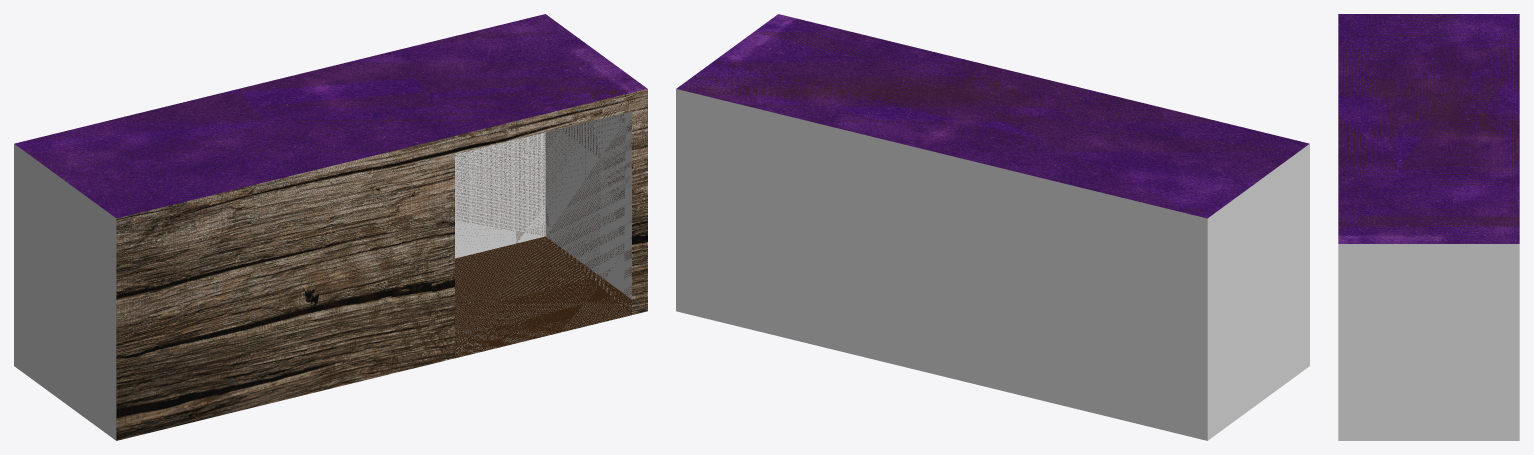
The model's file is Tunnel-house.dae.
The picture shows the model from 3 angles, left to right: view 1: azimuth 30°, elevation 25°; view 2: azimuth 150°, elevation 25°; view 3: azimuth 270°, elevation 25°; orthographic projection. The views are drawn at different scales.
Visible parts, largest first — view 1: SketchUp (×3); view 2: SketchUp (×2); view 3: SketchUp (×2).
Boxes of the visible parts, <box> form: SketchUp (×3): <box>14,14,647,440</box>; SketchUp (×2): <box>676,14,1309,440</box>; SketchUp (×2): <box>1338,14,1519,440</box>.
Size of the model in its own units: 118 by 39.37 by 47.24.
5 materials, 2 textured.
